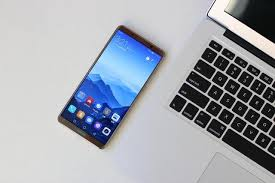mobil: (57, 24, 166, 150)
